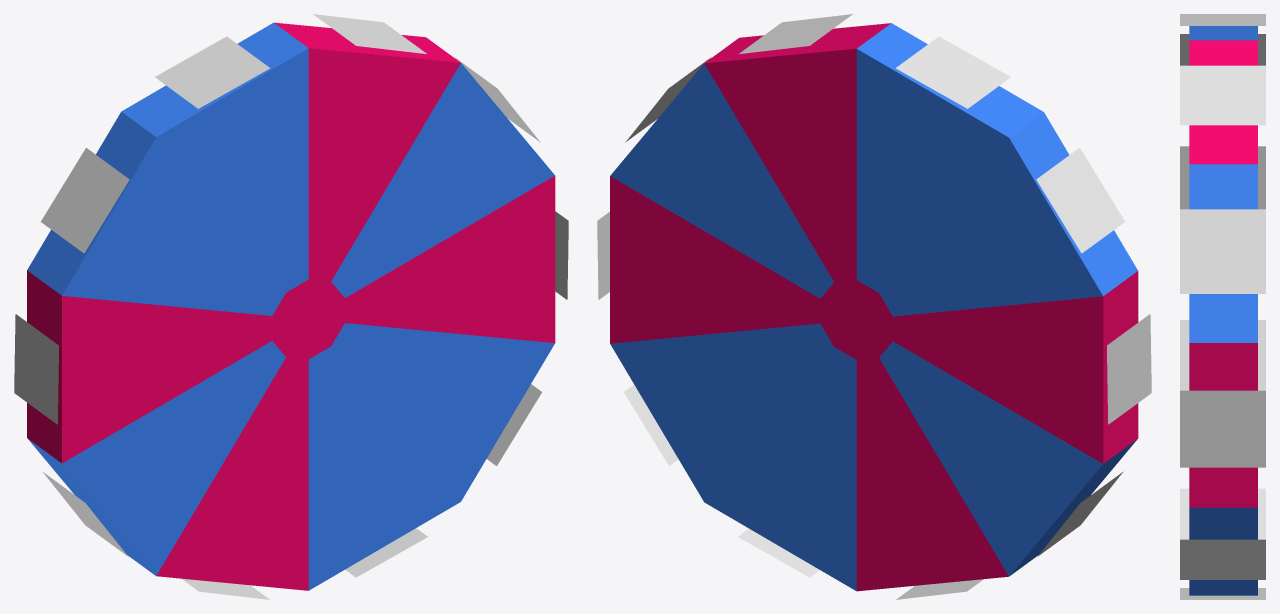
The model's file is rOULLETE.fbx.
3 views of the same model, side by side, from view 1: azimuth 30°, elevation 25°; view 2: azimuth 150°, elevation 25°; view 3: azimuth 270°, elevation 25° (orthographic).
Parts seen in each view (by area): view 1: Circle, Plane.008, Plane.007, Plane.009, Plane.006, Plane.003, Plane.002, Plane.004, Plane.010, Plane.001, Plane.005; view 2: Circle, Plane.008, Plane.007, Plane.009, Plane.006, Plane.003, Plane.002, Plane.010, Plane.004, Plane.005, Plane.001; view 3: Circle, Plane.005, Plane.004, Plane.006, Plane.003, Plane.010, Plane.009, Plane.007, Plane.001, Plane.008, Plane.002.
Boxes of the visible parts, left/top/right/bottom form: Circle: left=27, top=22, right=555, bottom=590; Plane.008: left=41, top=148, right=129, bottom=253; Plane.007: left=155, top=36, right=269, bottom=108; Plane.009: left=14, top=314, right=58, bottom=424; Plane.006: left=313, top=14, right=426, bottom=53; Plane.003: left=486, top=384, right=541, bottom=465; Plane.002: left=345, top=528, right=427, bottom=577; Plane.004: left=555, top=211, right=568, bottom=299; Plane.010: left=42, top=471, right=128, bottom=556; Plane.001: left=181, top=578, right=269, bottom=599; Plane.005: left=454, top=57, right=540, bottom=142; Circle: left=610, top=23, right=1138, bottom=591; Plane.008: left=1036, top=148, right=1124, bottom=253; Plane.007: left=896, top=36, right=1010, bottom=108; Plane.009: left=1107, top=314, right=1151, bottom=424; Plane.006: left=739, top=14, right=852, bottom=53; Plane.003: left=624, top=384, right=678, bottom=465; Plane.002: left=738, top=528, right=819, bottom=577; Plane.010: left=1037, top=471, right=1123, bottom=556; Plane.004: left=597, top=212, right=609, bottom=299; Plane.005: left=625, top=57, right=711, bottom=142; Plane.001: left=896, top=579, right=983, bottom=599; Circle: left=1189, top=26, right=1257, bottom=595; Plane.005: left=1180, top=209, right=1265, bottom=293; Plane.004: left=1180, top=390, right=1265, bottom=467; Plane.006: left=1180, top=65, right=1265, bottom=125; Plane.003: left=1180, top=539, right=1265, bottom=579; Plane.010: left=1180, top=320, right=1265, bottom=390; Plane.009: left=1180, top=146, right=1265, bottom=209; Plane.007: left=1180, top=14, right=1265, bottom=25; Plane.001: left=1180, top=488, right=1265, bottom=539; Plane.008: left=1180, top=34, right=1265, bottom=65; Plane.002: left=1180, top=588, right=1265, bottom=599.
Bounding box in the file's own units: 197 × 200 × 29.14.
